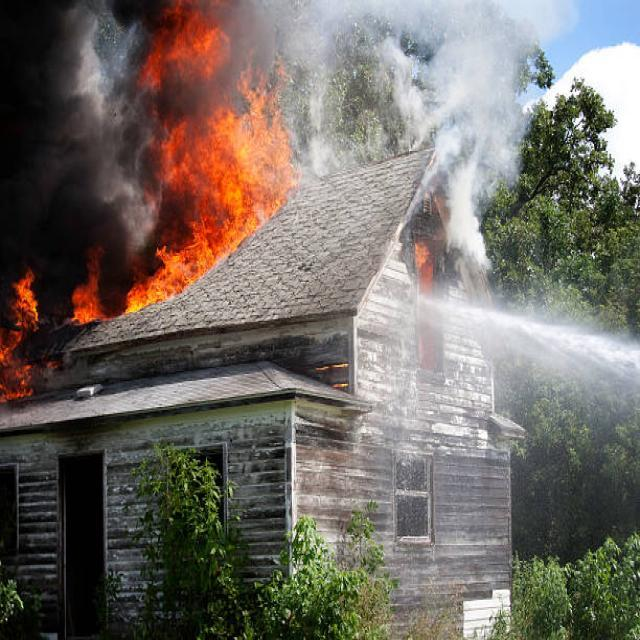Smoke: (121, 9, 292, 318), (0, 0, 135, 327), (0, 274, 42, 398), (74, 252, 104, 324)
